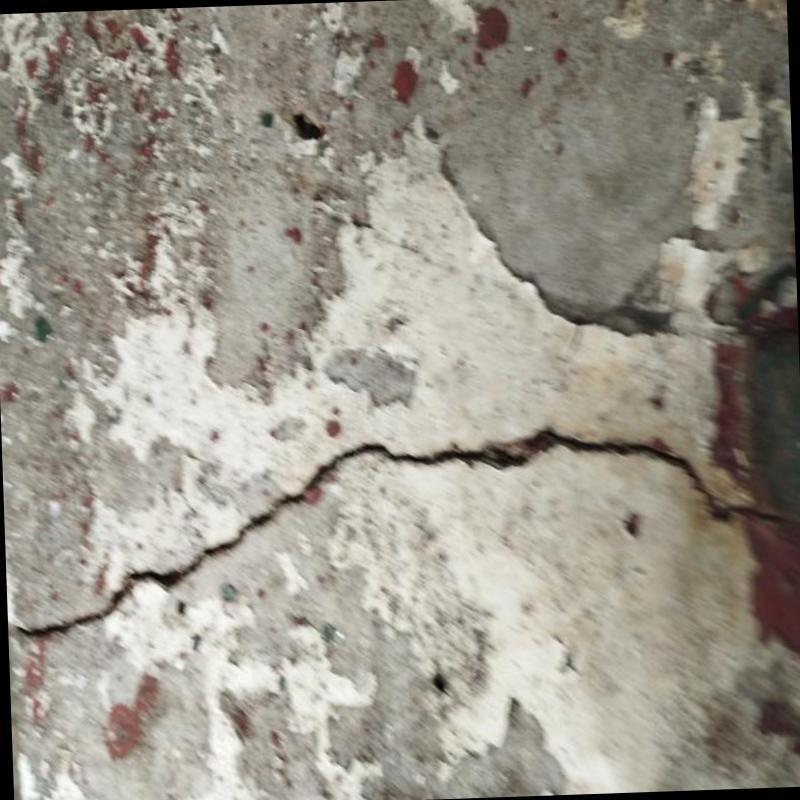pothole: (12, 431, 800, 638)
